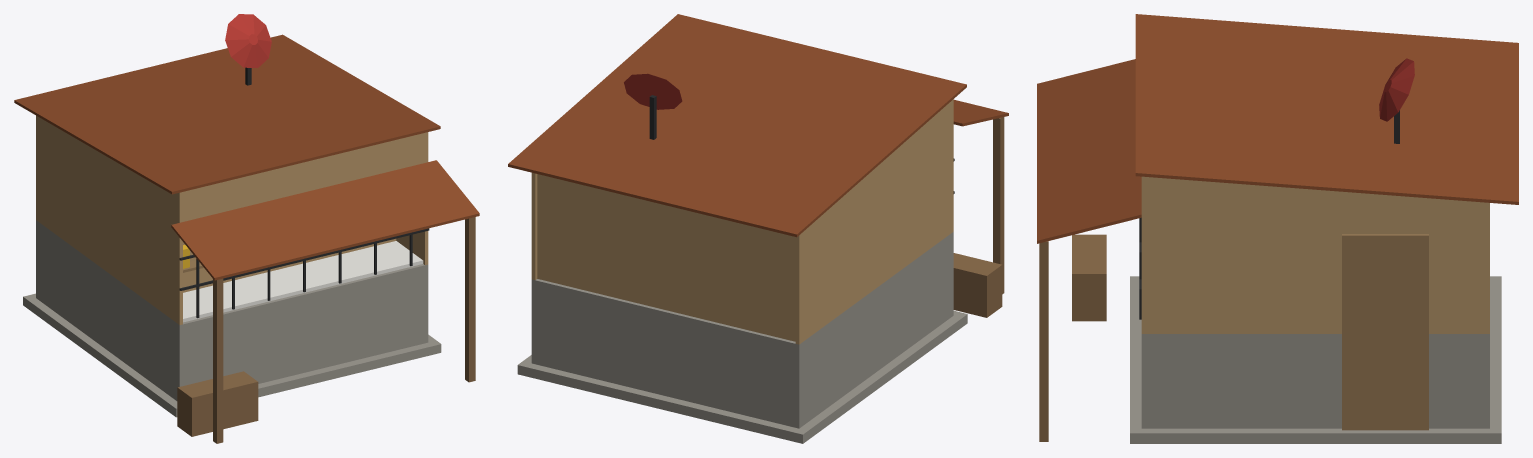
Rendered from BAY_I_SariSari_F.glb.
The picture shows the model from 3 angles, left to right: view 1: azimuth 30°, elevation 25°; view 2: azimuth 150°, elevation 25°; view 3: azimuth 270°, elevation 25°; orthographic projection. The views are drawn at different scales.
Visible parts, largest first — view 1: BAY_I_SariSari_F; view 2: BAY_I_SariSari_F; view 3: BAY_I_SariSari_F.
Part boxes in pixels (box(x1,y1,x2,y2)): BAY_I_SariSari_F: box(14, 14, 479, 443); BAY_I_SariSari_F: box(508, 14, 1008, 443); BAY_I_SariSari_F: box(1037, 14, 1518, 443).
Bounding box in the file's own units: 3.32 × 3.16 × 4.15.
1 material, 1 textured.
